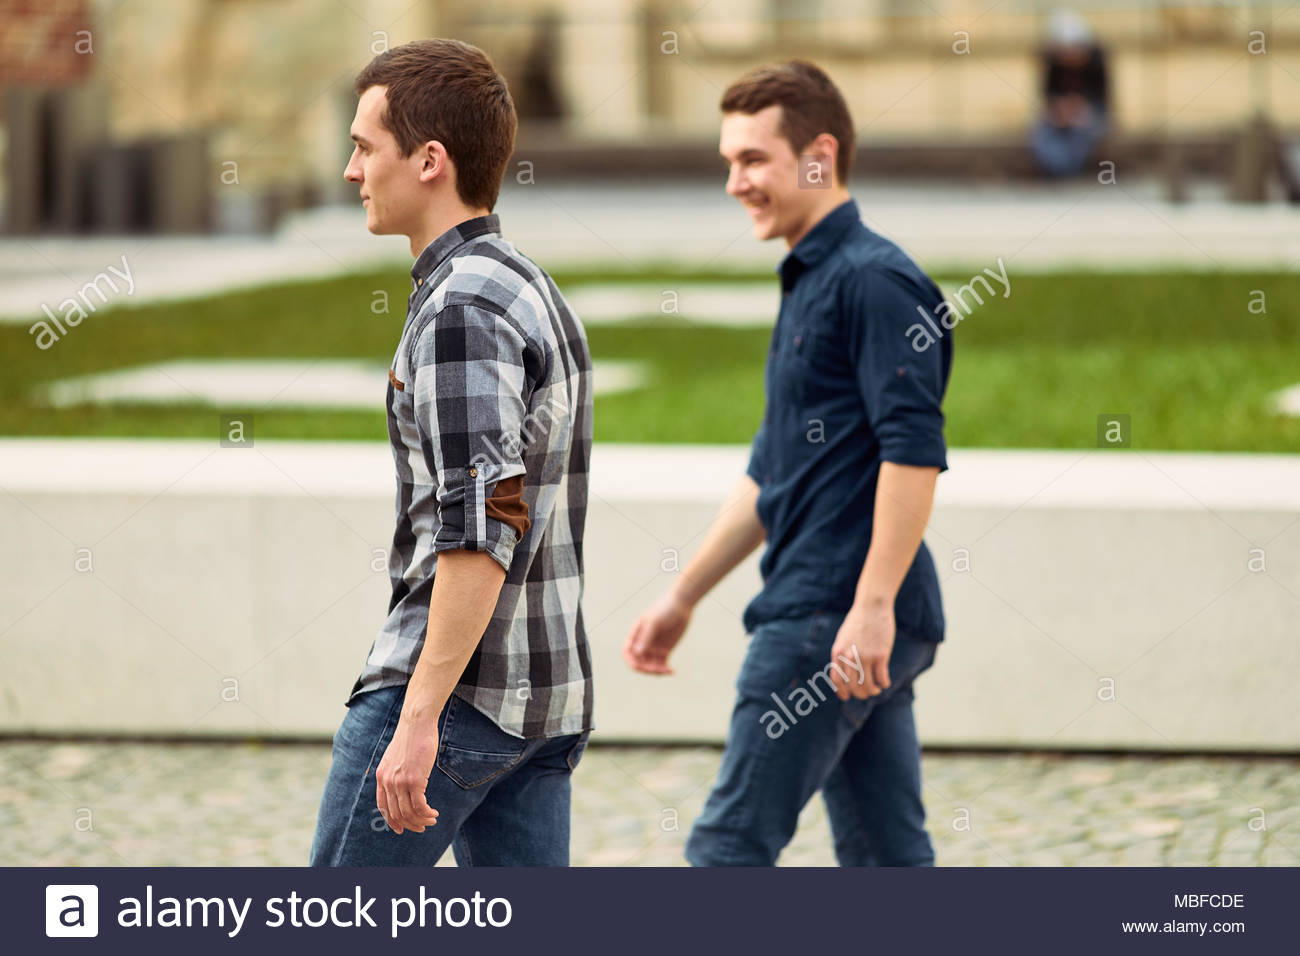Person: (616, 53, 979, 875), (288, 37, 605, 881)
